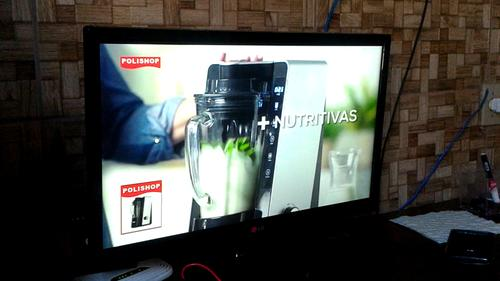Polishop #1: (113, 173, 168, 238)
